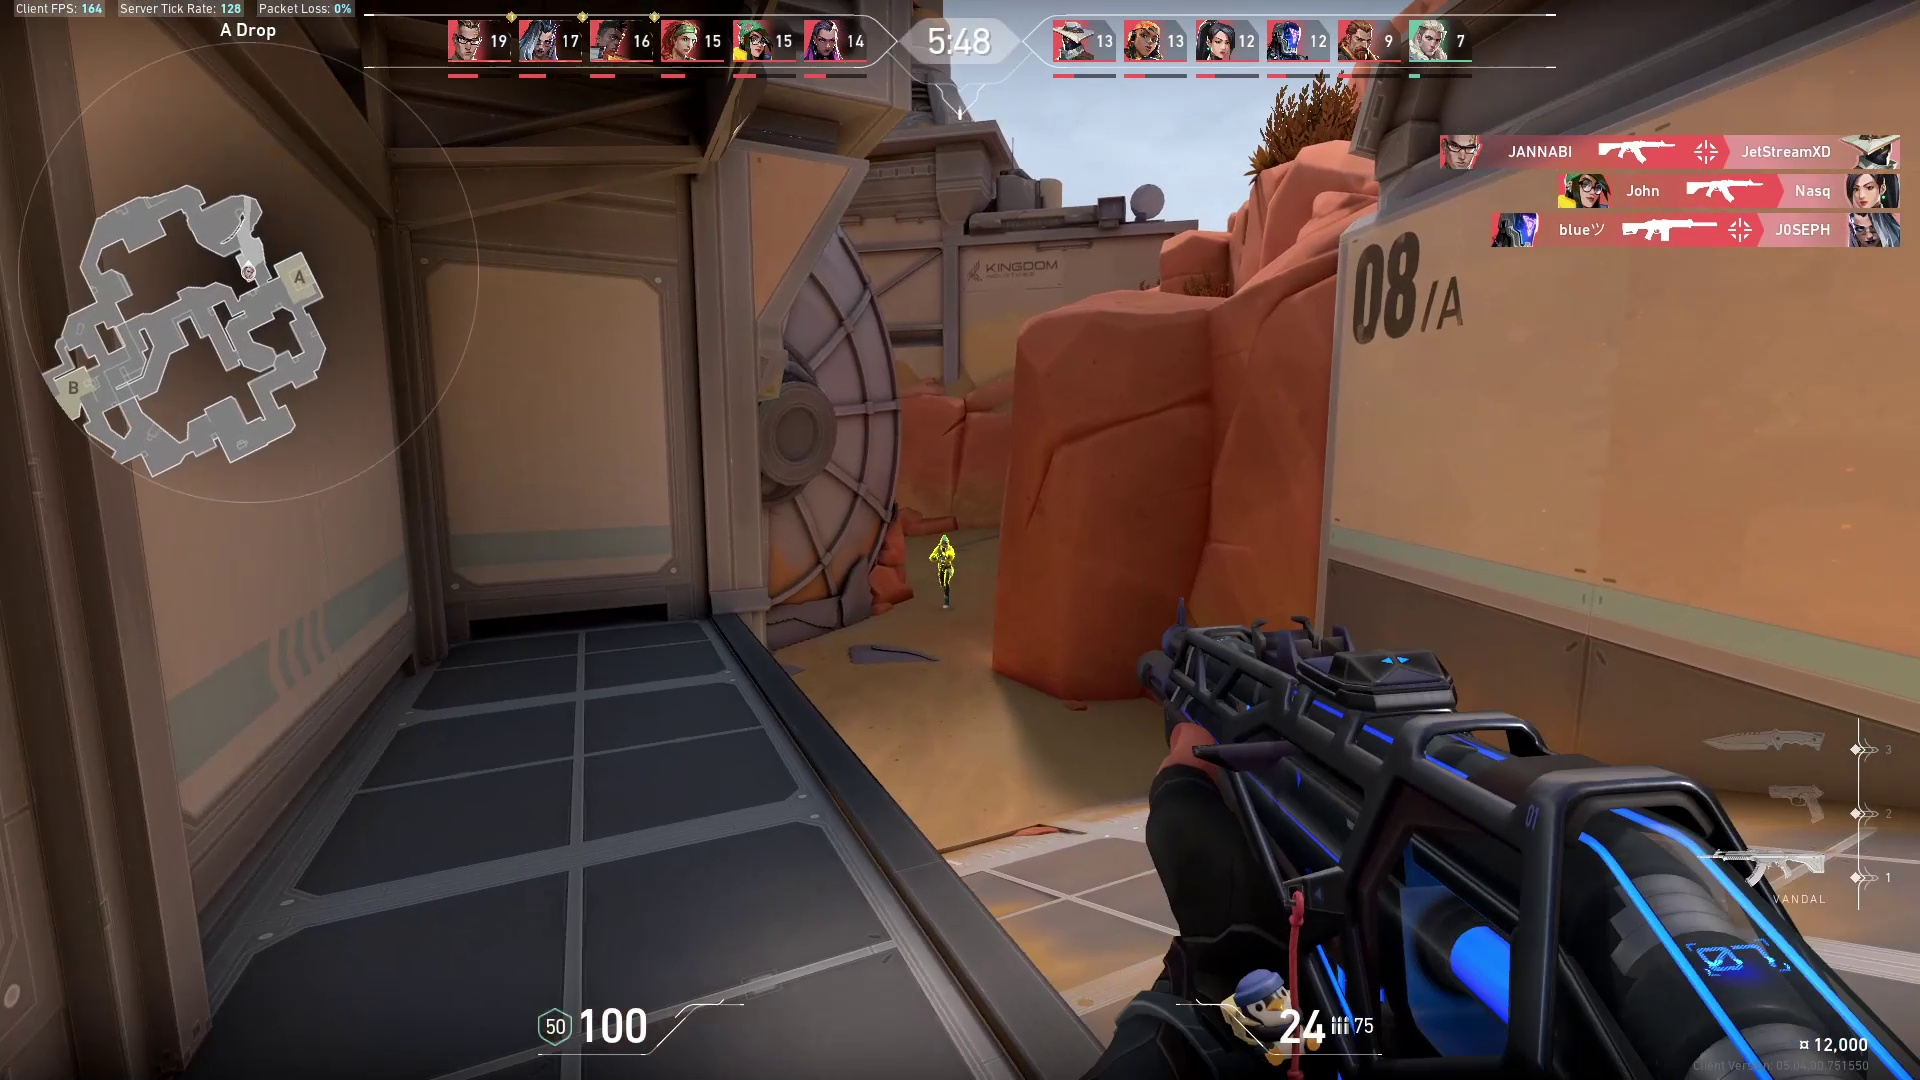enemy_body: (928, 546, 961, 610)
enemy_head: (937, 532, 951, 549)
